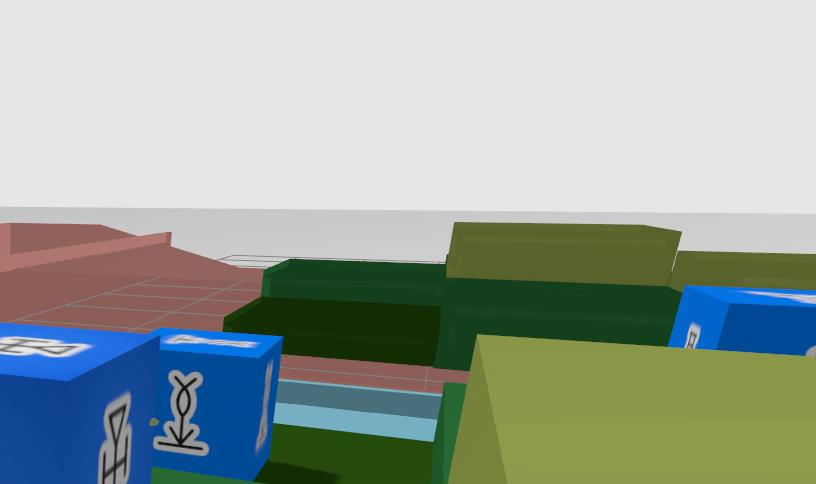KFS_REAL: (0, 323, 158, 484), (150, 328, 282, 479), (154, 370, 208, 454), (97, 392, 131, 484)
